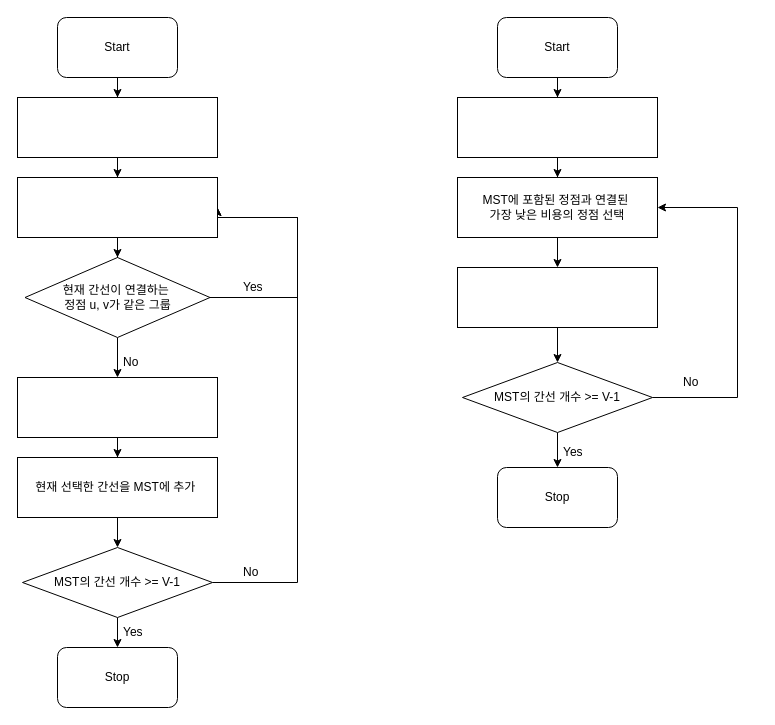
The diagram is 775 pixels wide and 725 high, and some of its shapes have lost their labels. The shapes that lost their labels are listed below. From the top down, each one's centre as x and y in pixels, then its label:
[117,127]: 간선을 크기의 오름차순으로 정렬
[557,127]: 임의의 정점을 선택해 MST에 추가
[117,207]: 가장 낮은 비용의 간선 선택 및 기존 리스트에서 제거
[557,297]: 현재 선택한 정점을 MST에 추가
[117,407]: 정점 u, v를 같은 그룹으로 만듬
